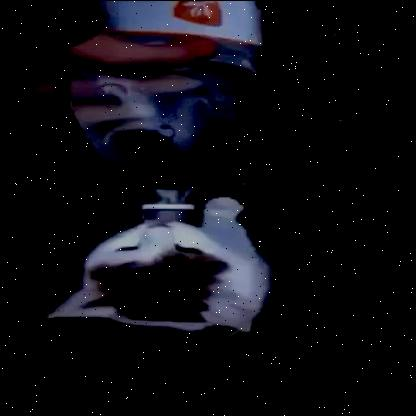Plastic Bottle: (70, 0, 262, 220)
